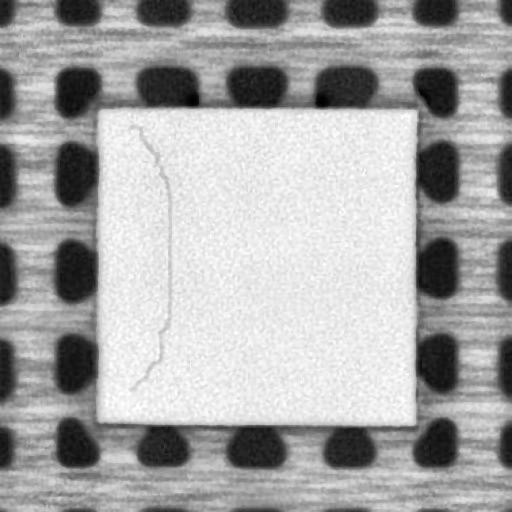DIE_CRACK: (128, 118, 174, 390)
